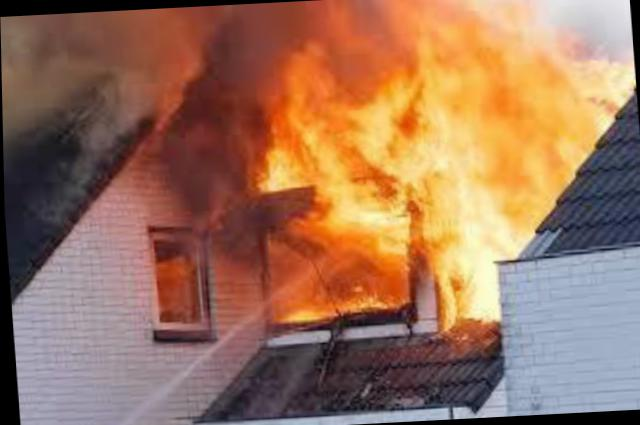fire: (162, 4, 597, 325)
